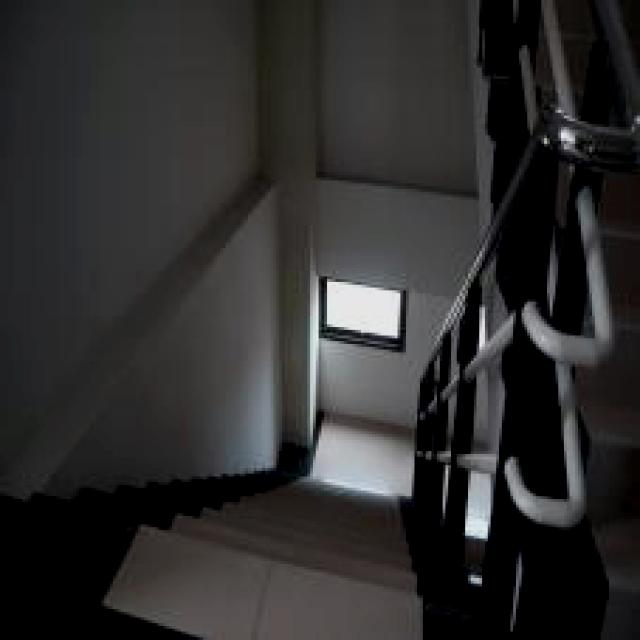downstair: (72, 433, 435, 639)
